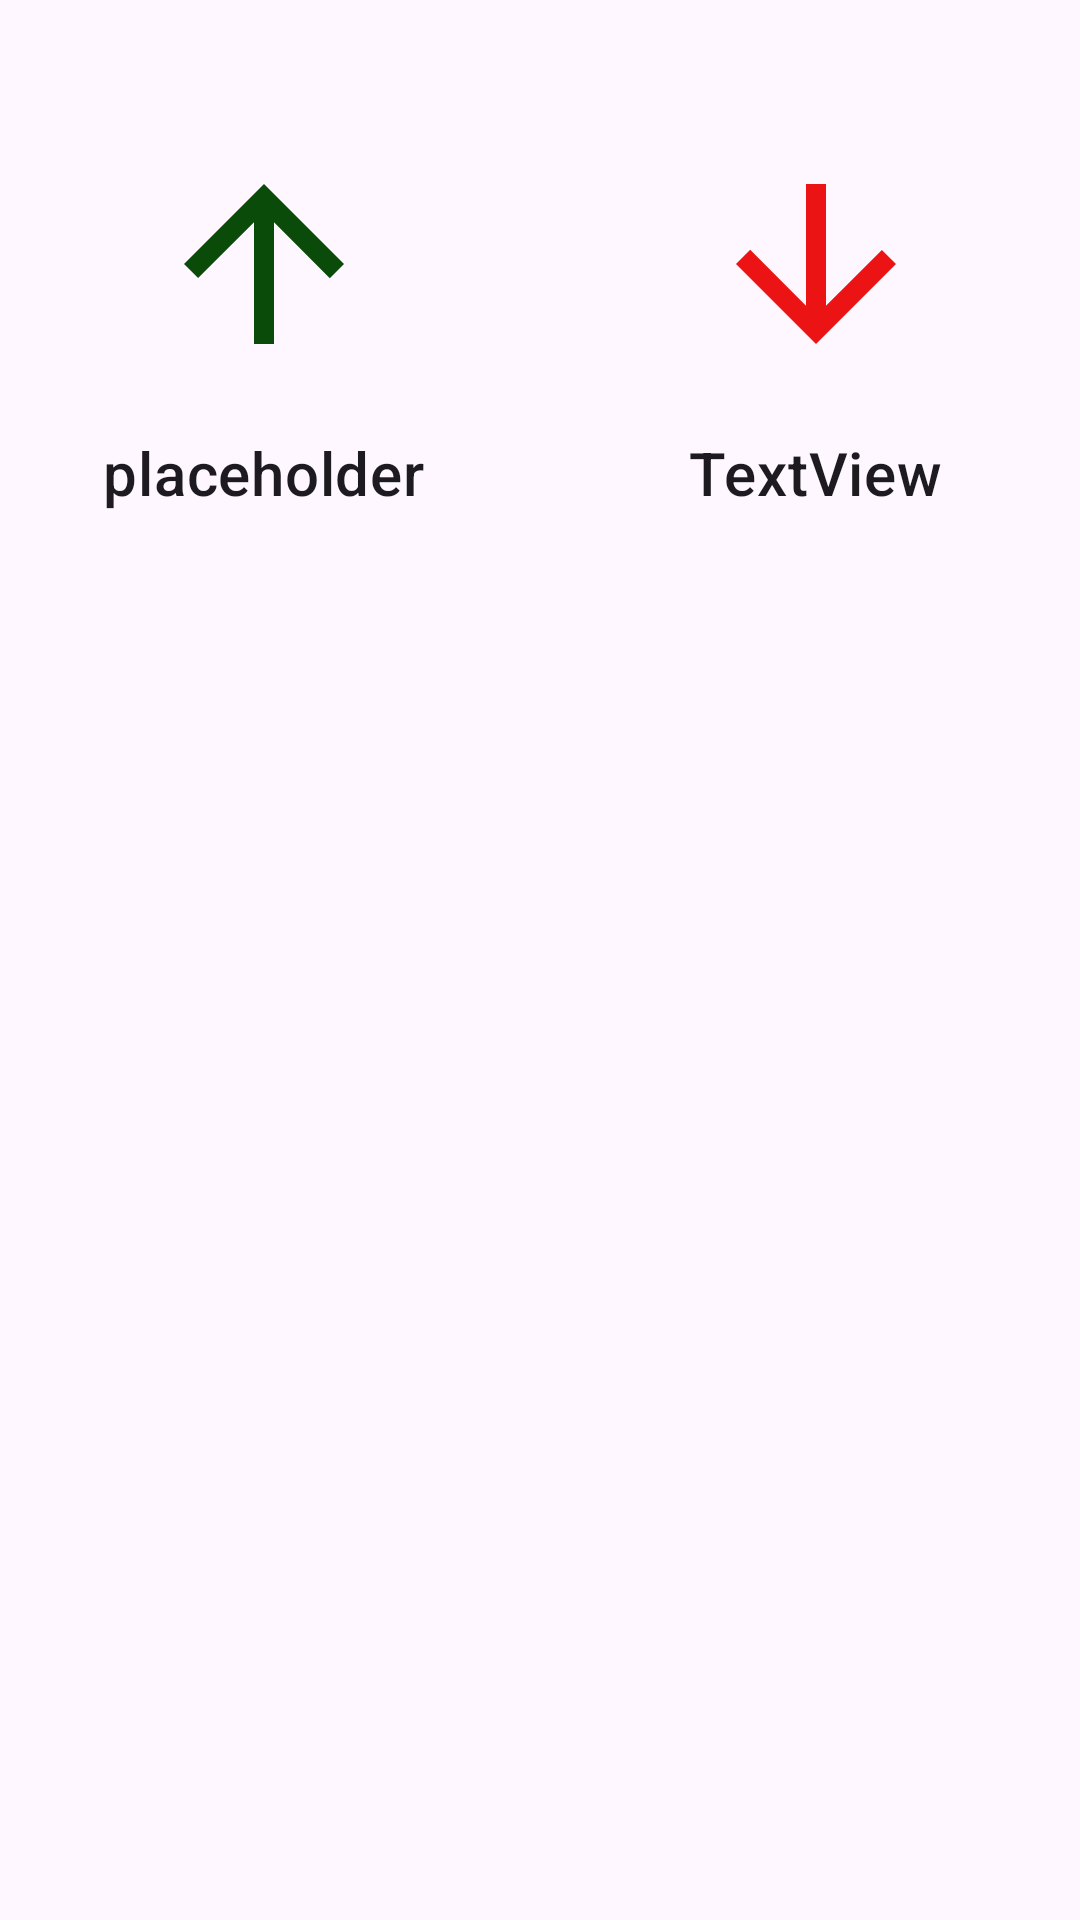

Named icons in this screenshot (1080x1920) and their centers, [x,y]:
credito: [264,264]
debito: [816,264]
